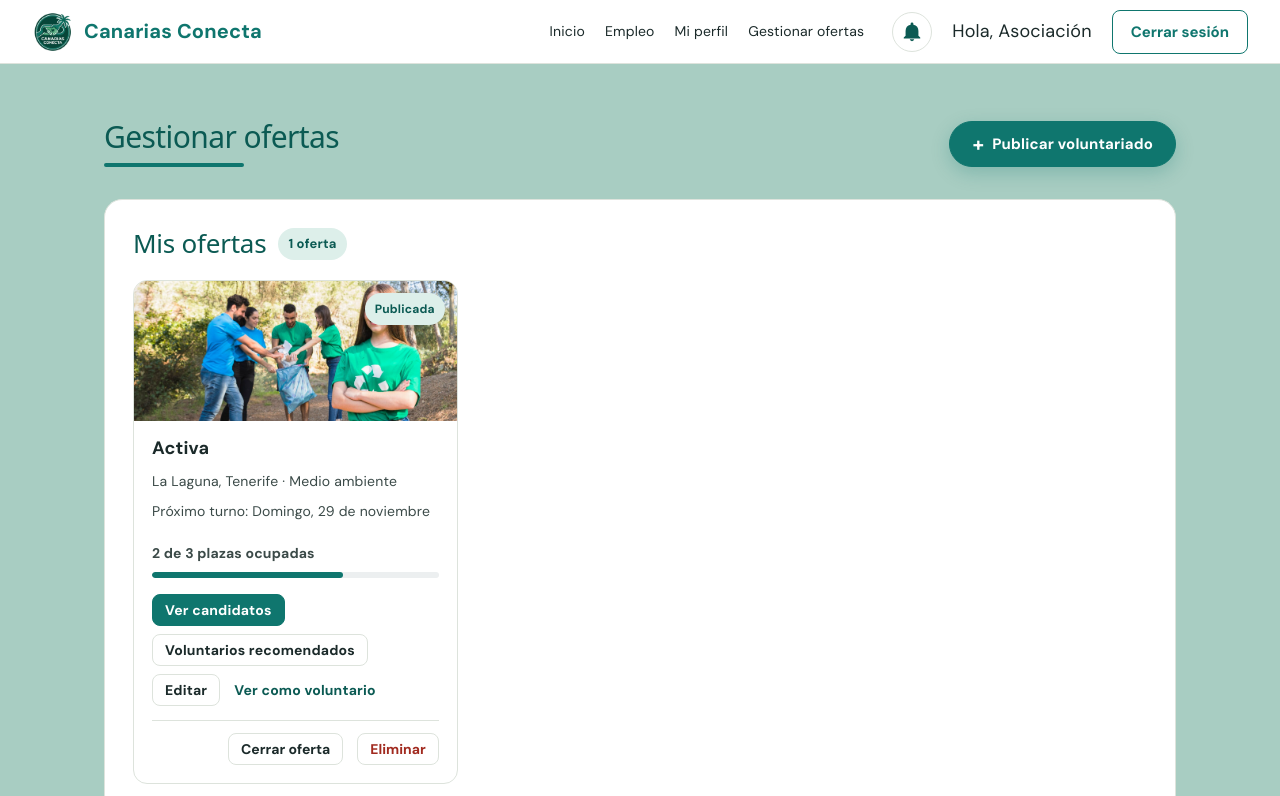
Test case: GestionarOfertas › muestra el motivo si no se pudo eliminar
The width and height of the screenshot is (1280, 796).
What coordinates should you click on to do the following:
click the button "Eliminar"
I would click on:
 (398, 749)
Its box is [357,733,439,765].
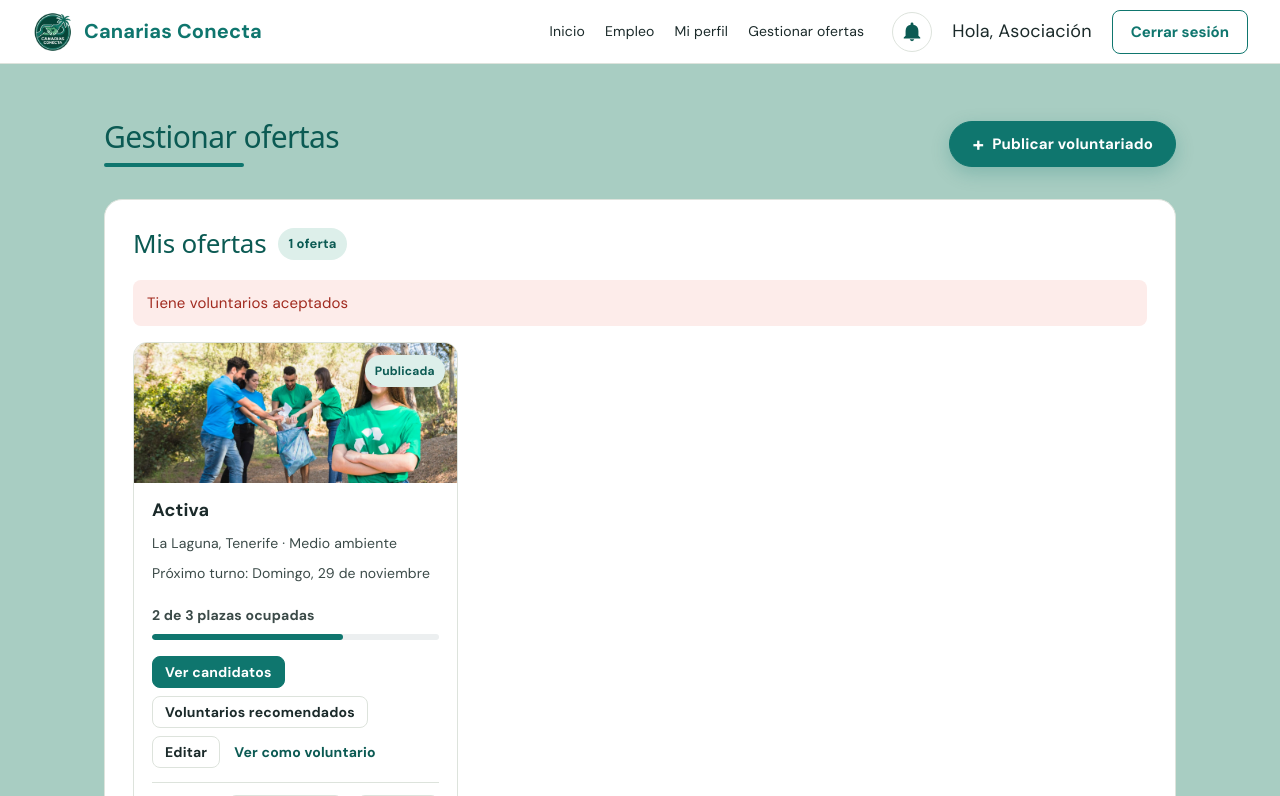
Expected: the message reads "Tiene voluntarios aceptados", [147,293,348,313]
